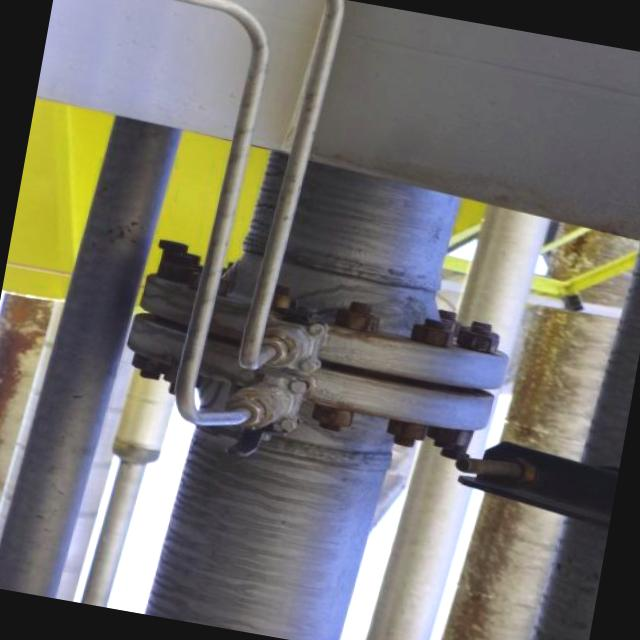gas: (150, 151, 448, 640), (0, 100, 190, 607), (360, 199, 567, 640)
